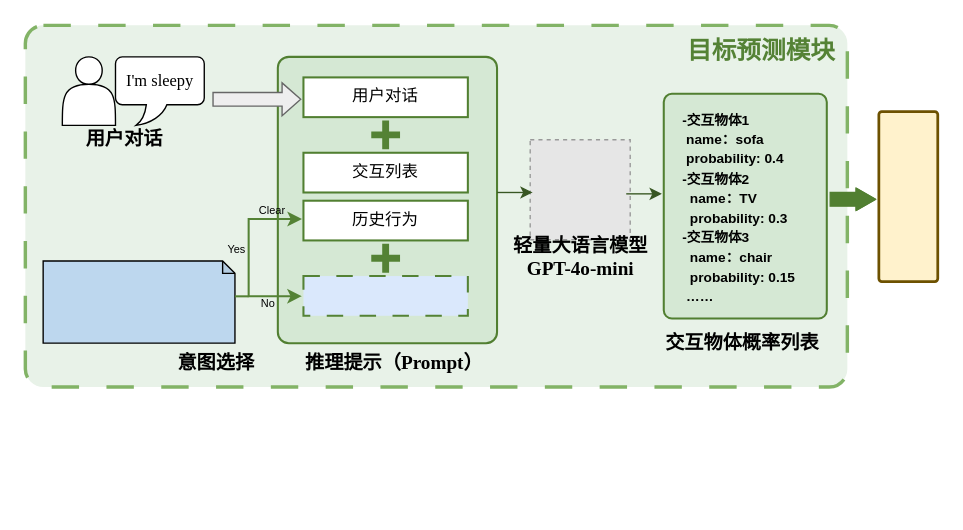
Some shapes in this 963 by 530 pixel diagram are drawn without their labels. Grey dashed boxes stand in for pictures. Each missing label, with the centre of its shape:
Human wants to have coffee -Yes - No: (x=138, y=301)
动 态 迭 代 模 块: (x=907, y=196)
推理意图: (x=385, y=295)
